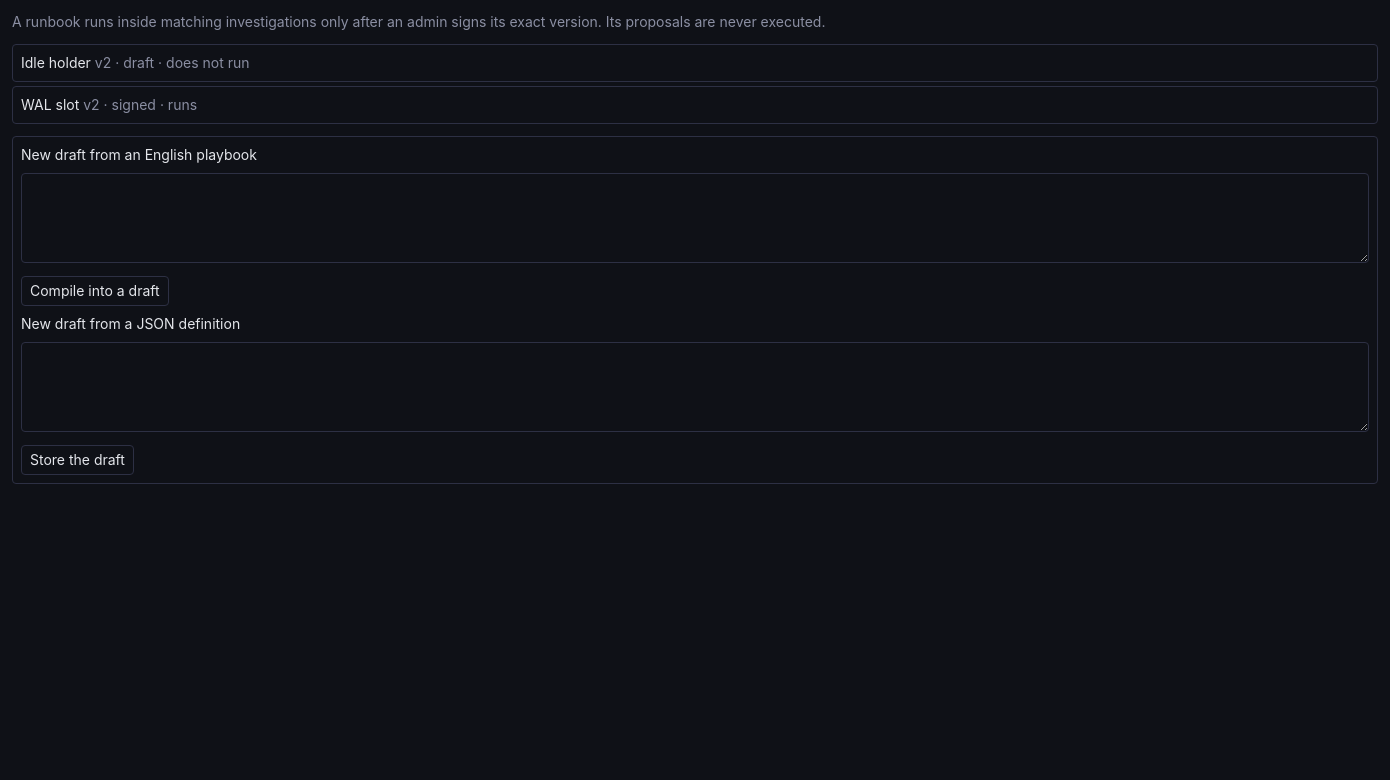
Test: RunbooksPage › compiles English into a draft and shows rejection reasons
The image size is (1390, 780).
Type "Sleep for a while." into the text box with test id "runbook-compile-text" at (695, 218), box [21,173,1369,263]
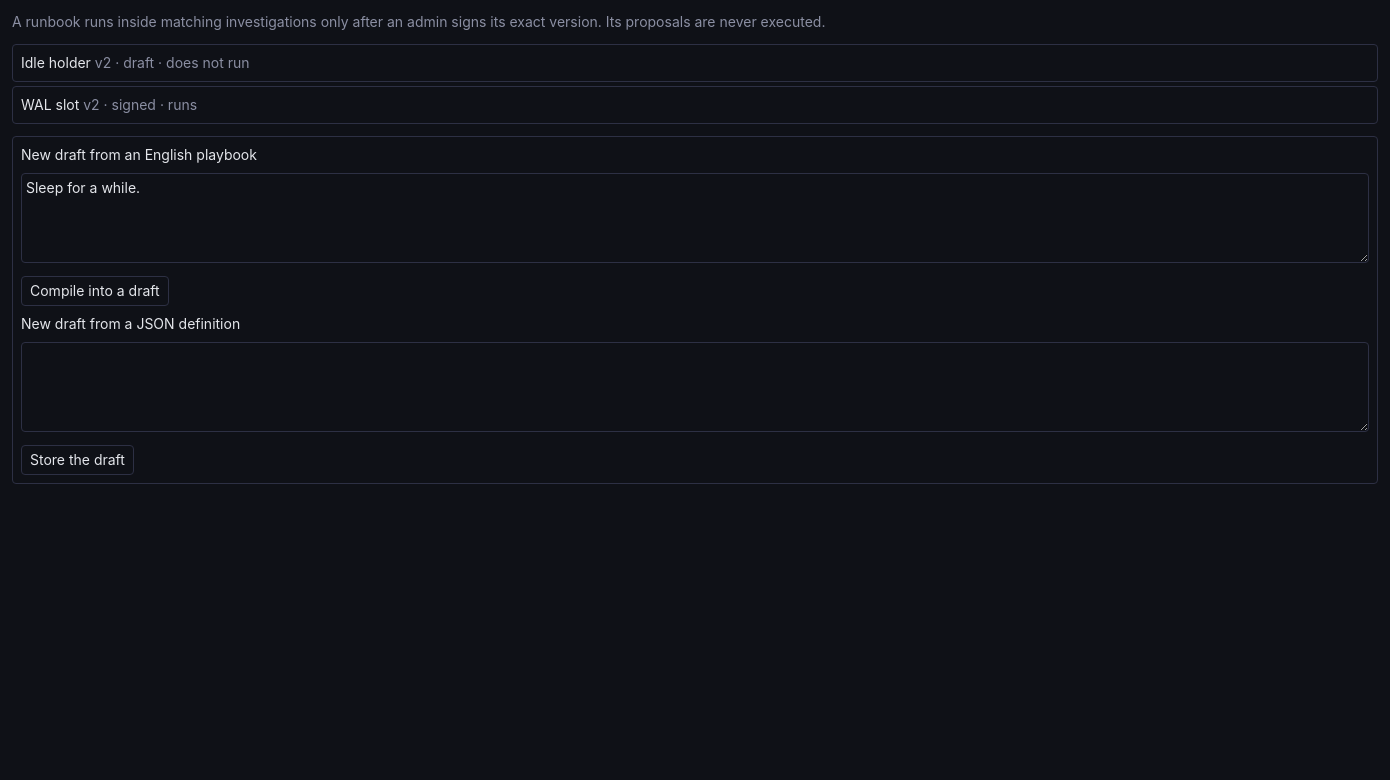
Click the button with test id "runbook-compile" at (95, 291), box [21,276,169,306]
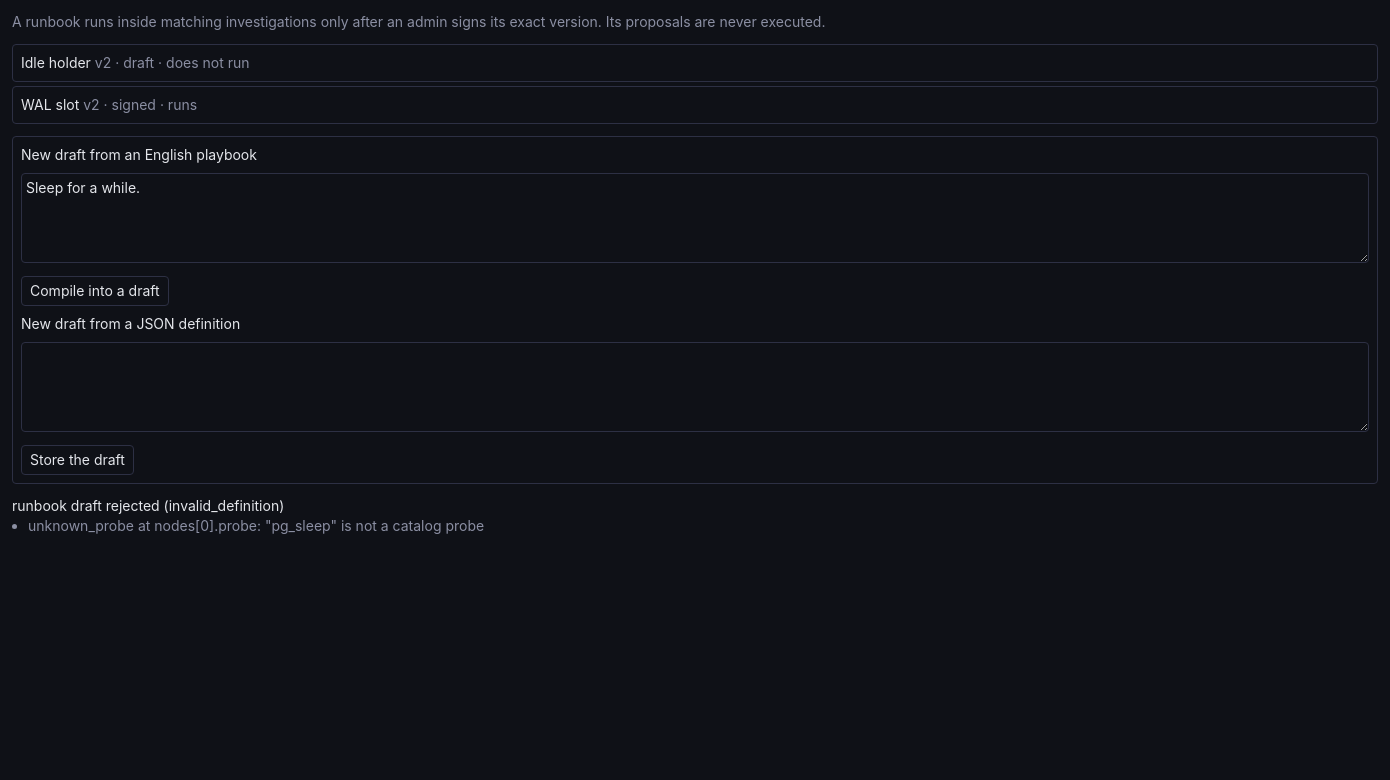
Now the element with test id "runbook-problems" shows "unknown_probe", box [28,517,134,534]
